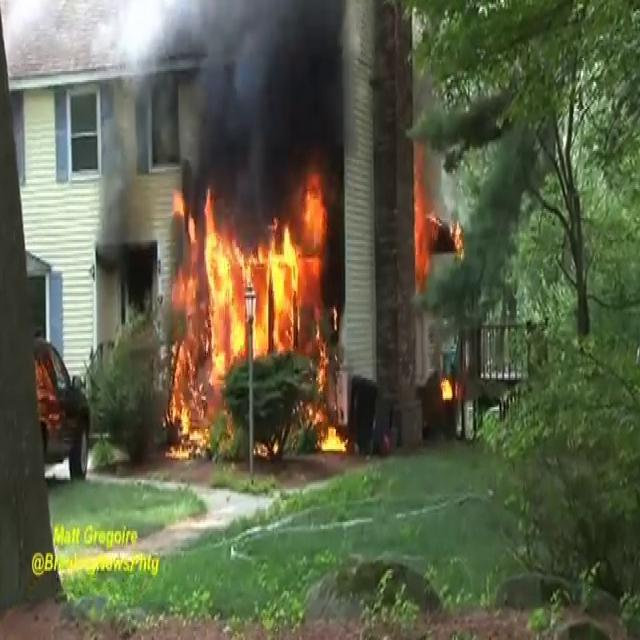Fire: (166, 180, 332, 456)
Smoke: (168, 0, 370, 213)
